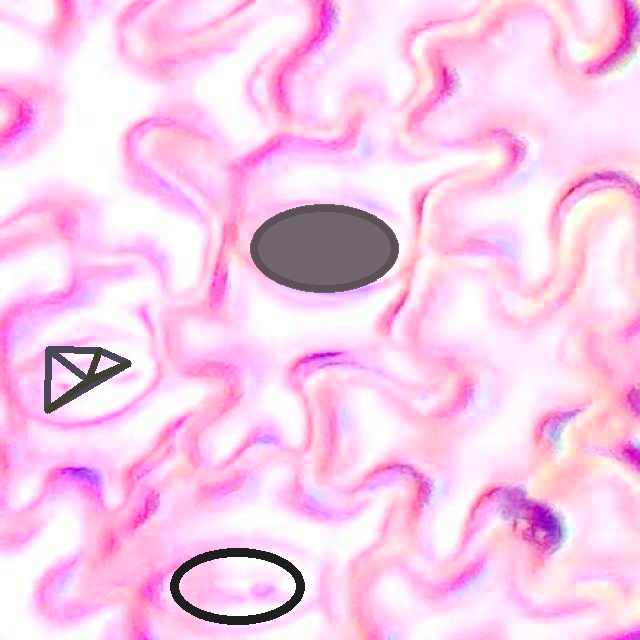open: (251, 204, 398, 292), (168, 548, 305, 625), (46, 348, 130, 413)
